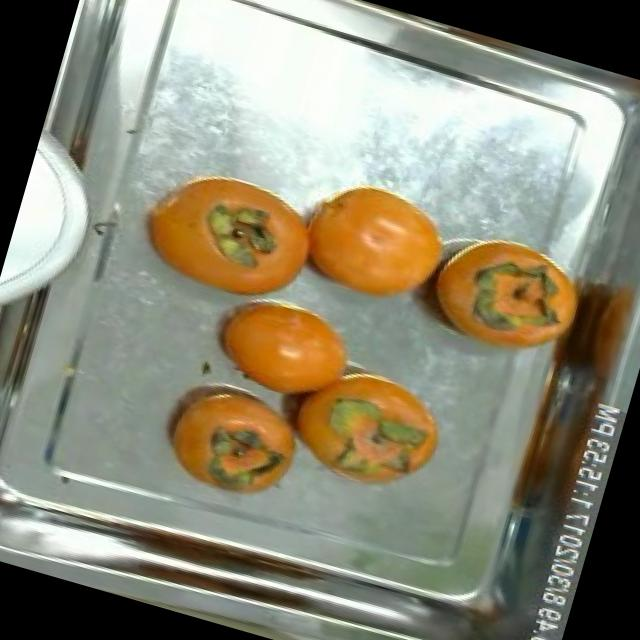Fruit: (109, 142, 340, 328), (273, 154, 470, 326), (138, 364, 321, 512), (186, 279, 373, 419), (293, 353, 460, 507)
